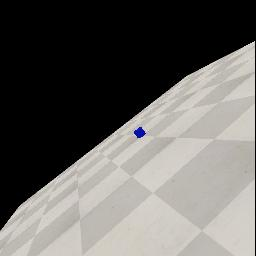box: (134, 127, 146, 138)
